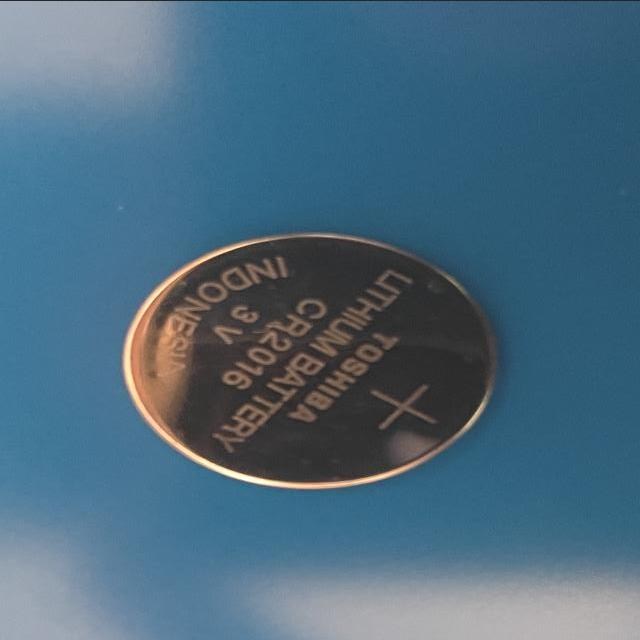COIN: (123, 232, 500, 490)
